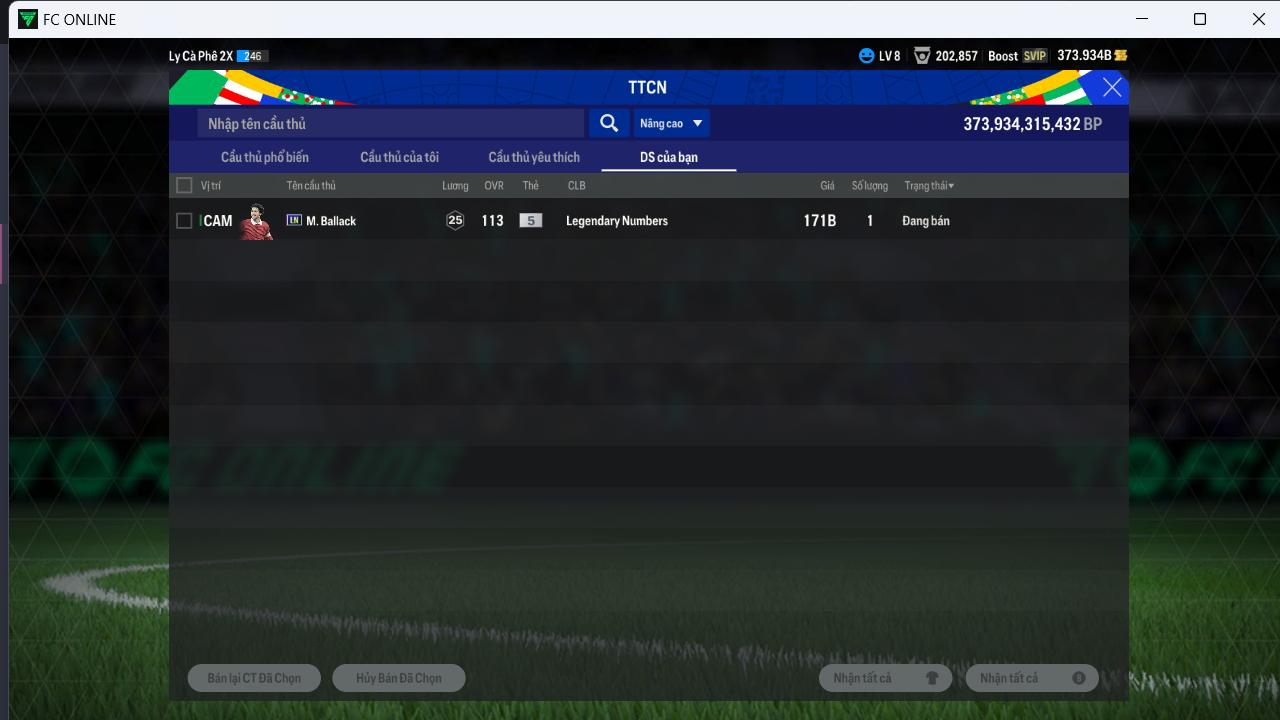previous: (798, 208, 846, 234)
